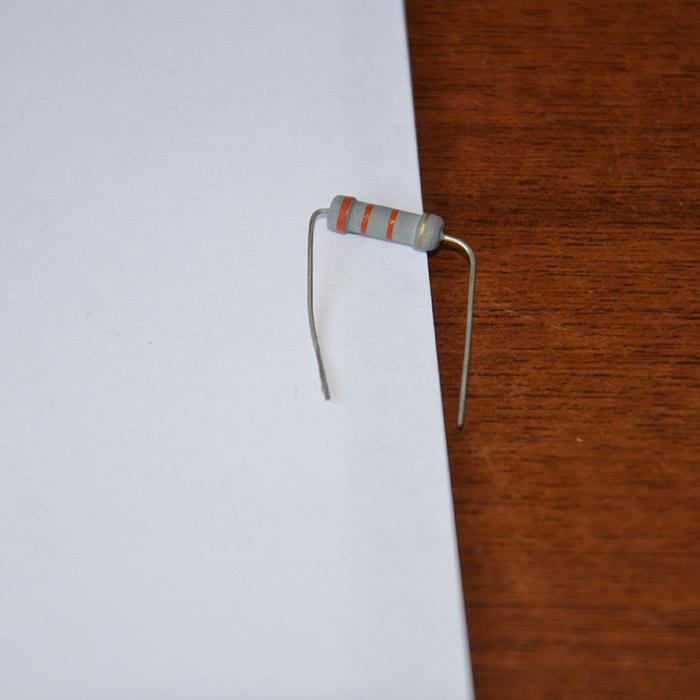resistor: (326, 193, 443, 252)
